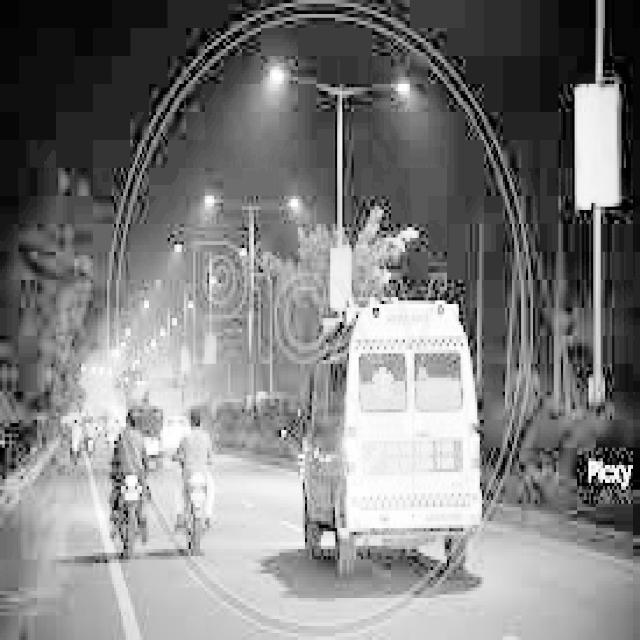Ambulance: (296, 288, 480, 586)
